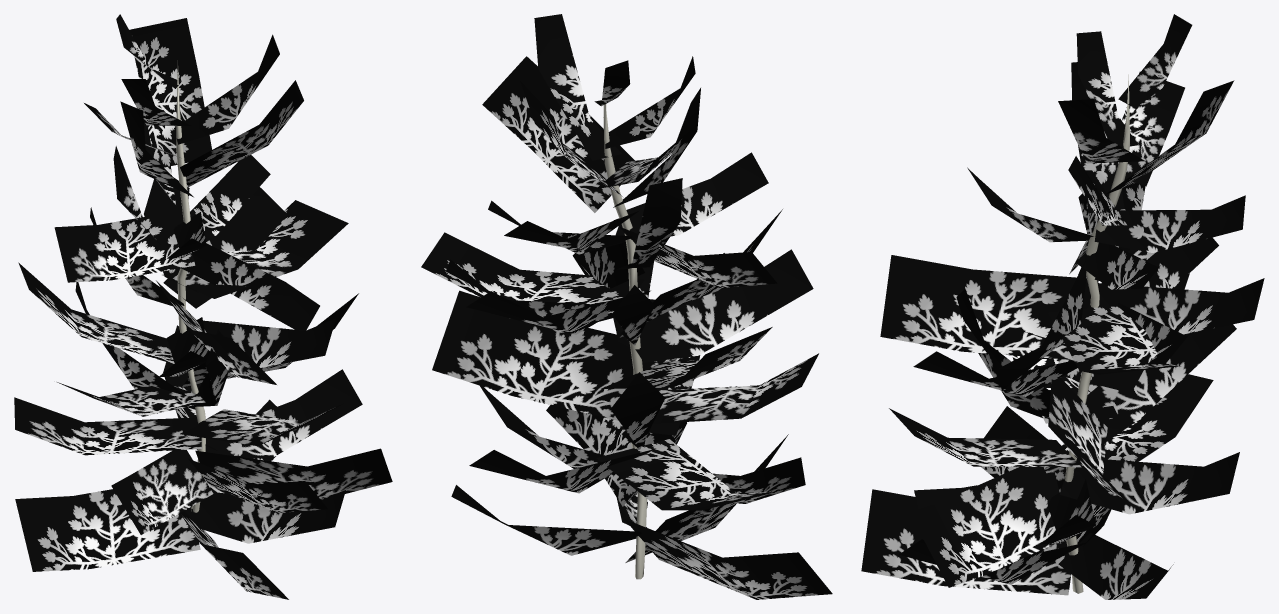
File: SM_Plant_07.glb
The picture shows the model from 3 angles, left to right: view 1: azimuth 30°, elevation 25°; view 2: azimuth 150°, elevation 25°; view 3: azimuth 270°, elevation 25°; orthographic projection. The views are drawn at different scales.
Visible parts, largest first — view 1: SM_Plant_07; view 2: SM_Plant_07; view 3: SM_Plant_07.
Boxes of the visible parts, x1,y1,x2,y2 form: SM_Plant_07: [14, 14, 392, 599]; SM_Plant_07: [421, 14, 832, 599]; SM_Plant_07: [861, 14, 1264, 599].
Size of the model in its own units: 1.43 by 2.07 by 1.35.
2 materials, 1 textured.
